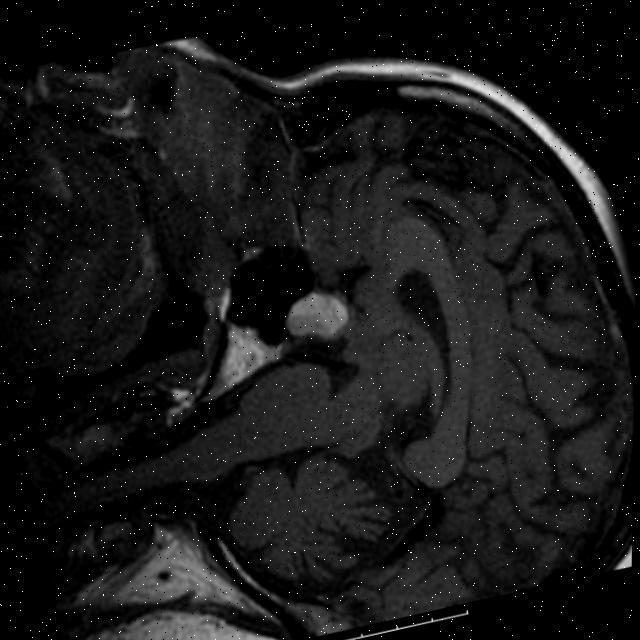Pituitary: (278, 284, 352, 347)
